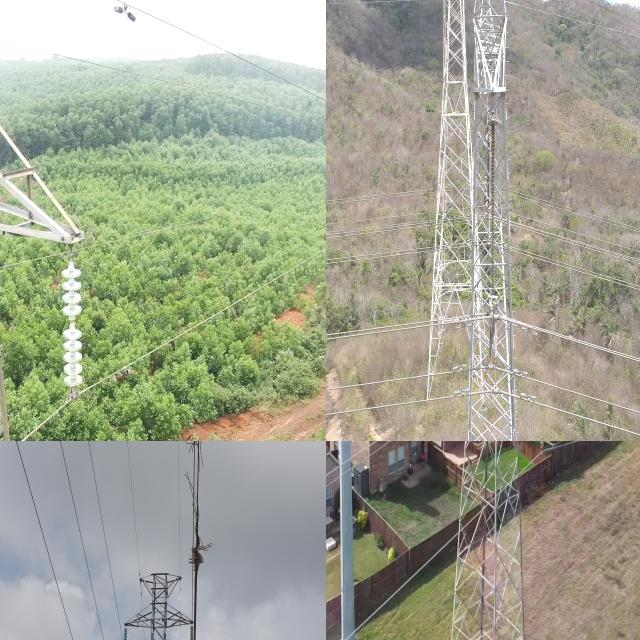杆塔: (0, 0, 99, 441), (422, 0, 490, 400), (465, 0, 520, 441), (447, 441, 526, 640)
正常电缆: (6, 225, 326, 441), (134, 0, 326, 105)
正常绝缘子: (58, 251, 91, 403), (488, 118, 499, 301), (538, 441, 546, 456)
电缆破损: (179, 441, 223, 580)
绝缘子破损: (64, 317, 76, 328)
